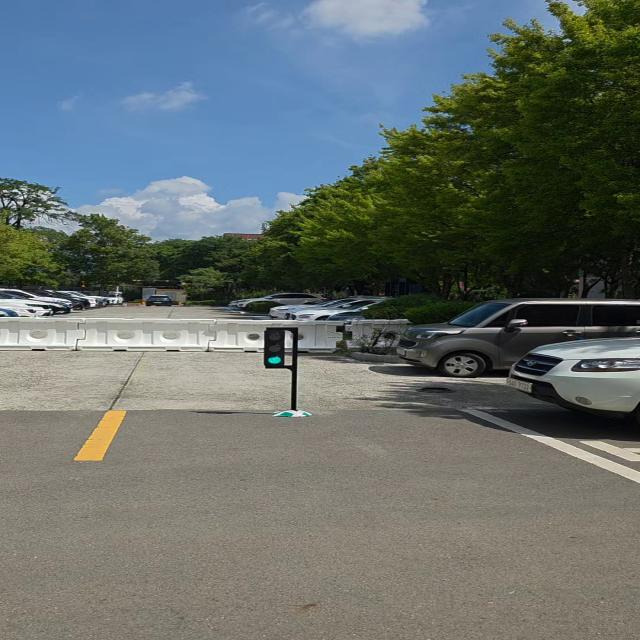green: (264, 327, 292, 368)
